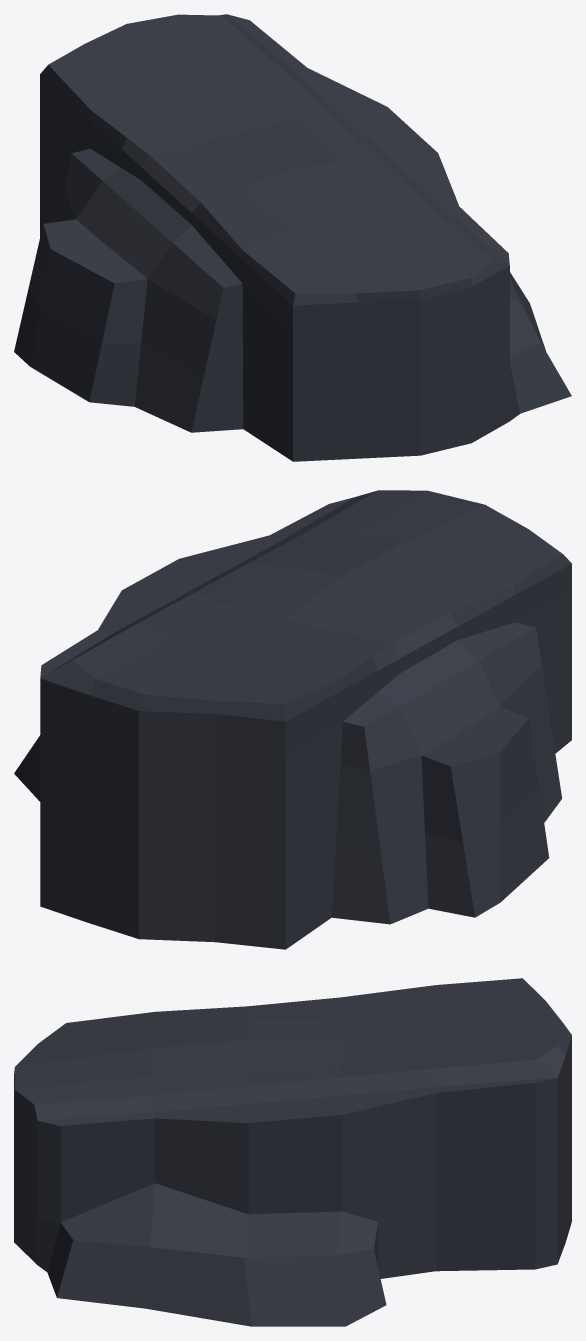
File: Rock_004.fbx
3 renders of one model, top to bottom at view 1: azimuth 30°, elevation 25°; view 2: azimuth 150°, elevation 25°; view 3: azimuth 270°, elevation 25°, orthographic. The views are drawn at different scales.
Parts seen in each view (by area): view 1: Rock_004; view 2: Rock_004; view 3: Rock_004.
Part boxes in pixels (bbox=[...]): Rock_004: bbox=[14, 14, 571, 461]; Rock_004: bbox=[14, 490, 571, 949]; Rock_004: bbox=[14, 978, 571, 1326].
Bounding box in the file's own units: 431 × 200 × 513.
